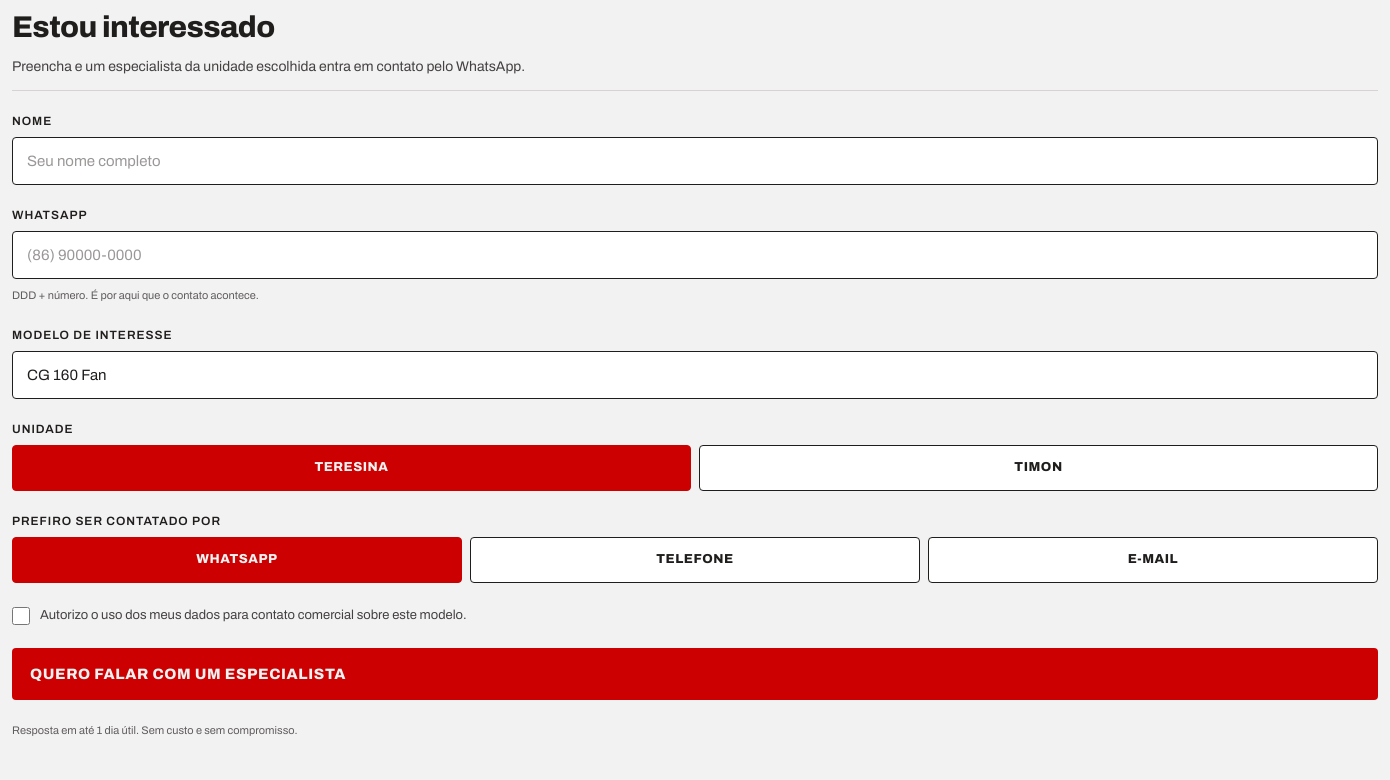
Test: validação no cliente › mostra o banner e o erro de cada campo
Click the button "Quero falar com um especialista" at (188, 674), box [12,648,1378,700]
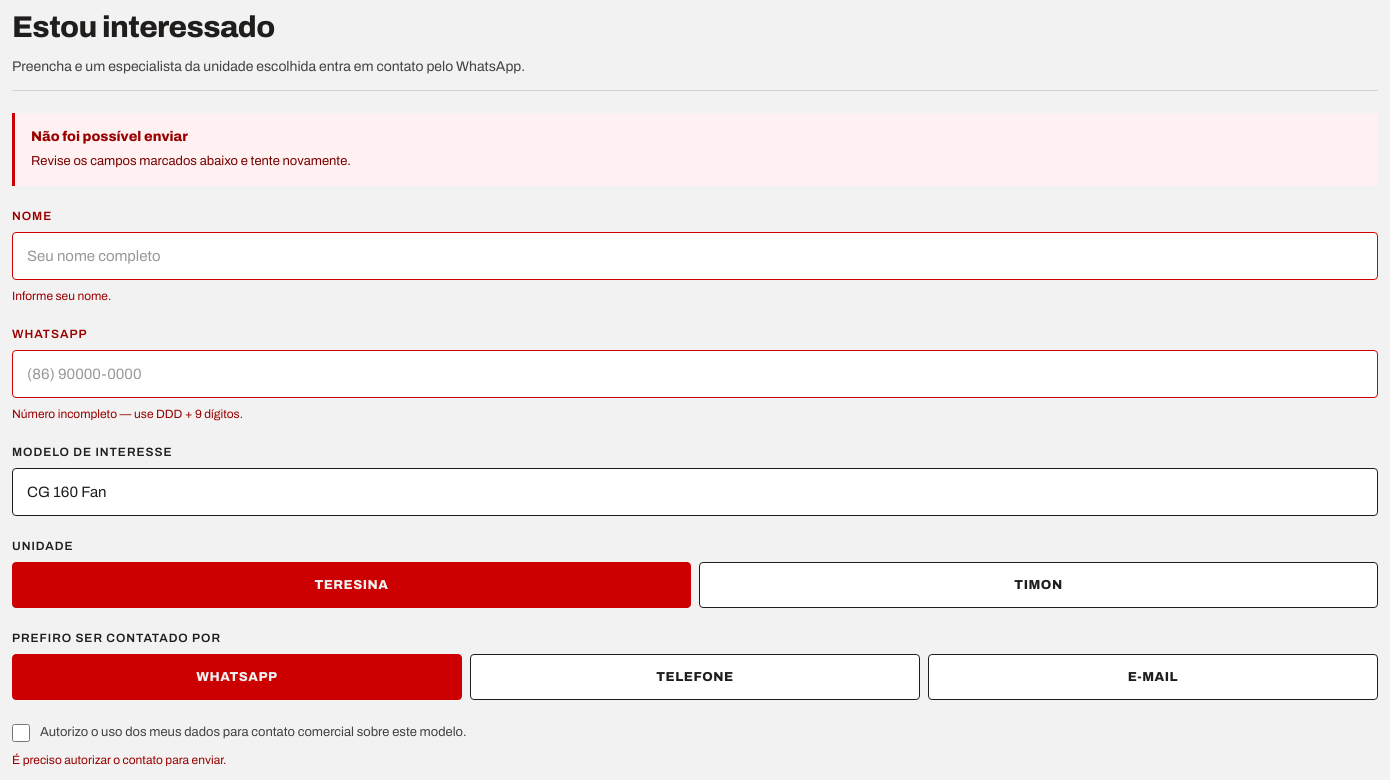
Check: the text "Não foi possível enviar" is shown, box [31,129,188,144]
Check: the text "Informe seu nome." is shown, box [12,289,111,303]
Check: the text "Número incompleto — use DDD + 9 dígitos." is shown, box [12,407,243,421]
